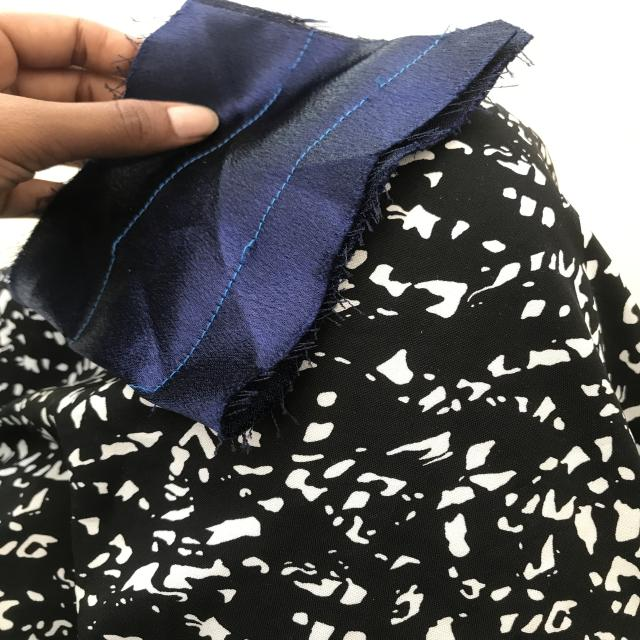broken: (358, 72, 389, 122), (265, 56, 302, 95)
skip: (227, 229, 270, 280), (105, 224, 138, 265)
